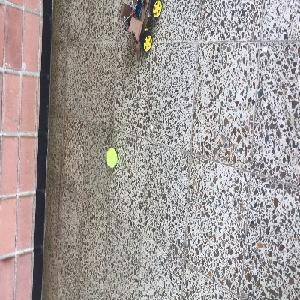Ball: (106, 148, 116, 167)
Robot: (119, 0, 162, 59)
